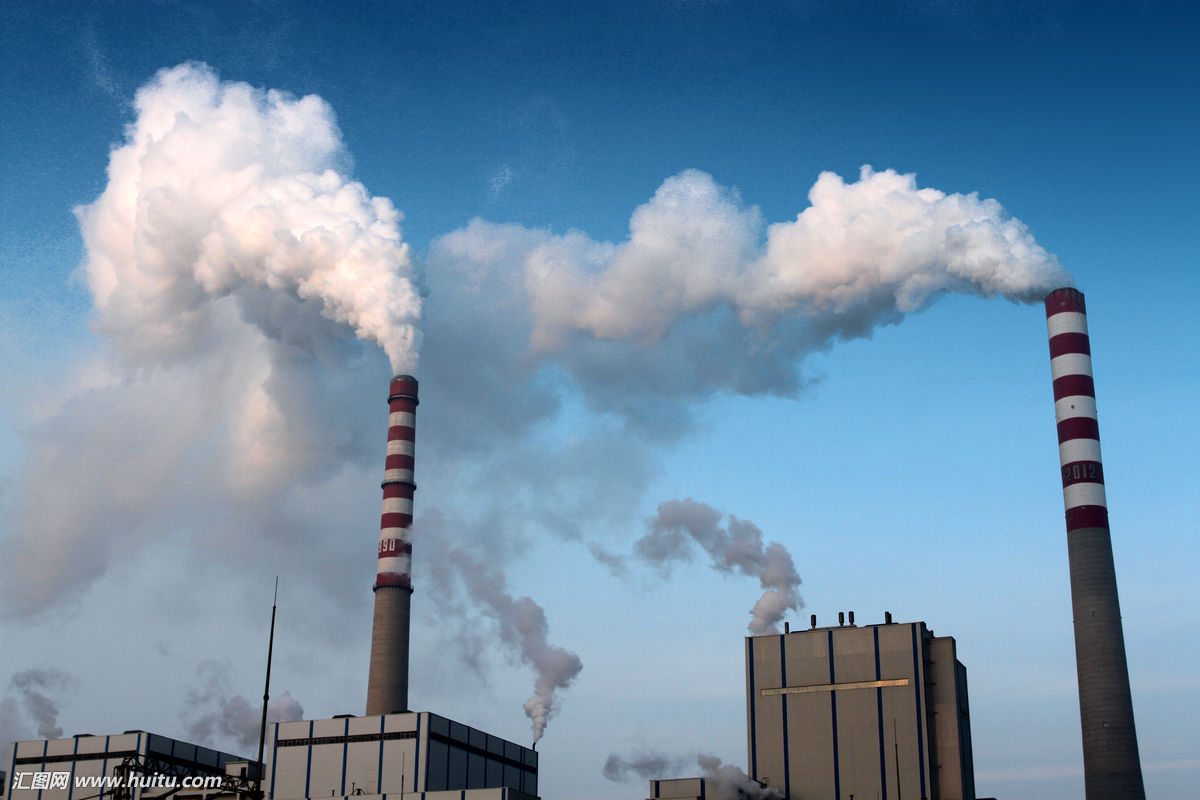dust: (120, 89, 443, 393), (768, 159, 1093, 317), (495, 598, 590, 753)
